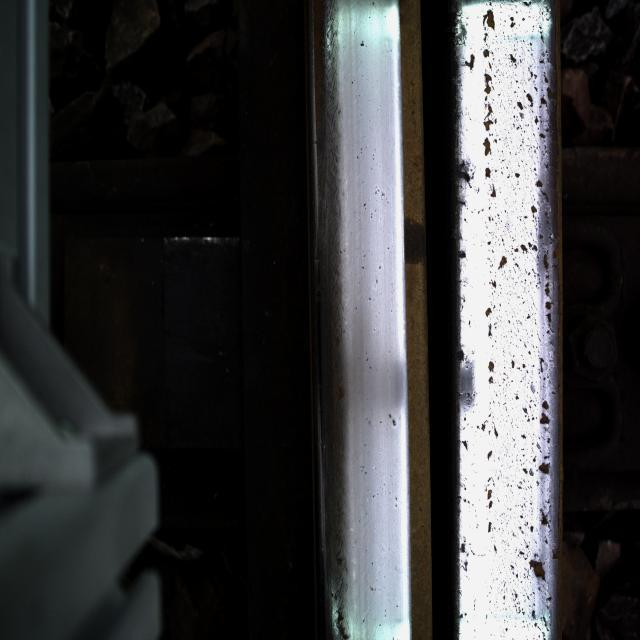scar: (465, 1, 550, 622)
